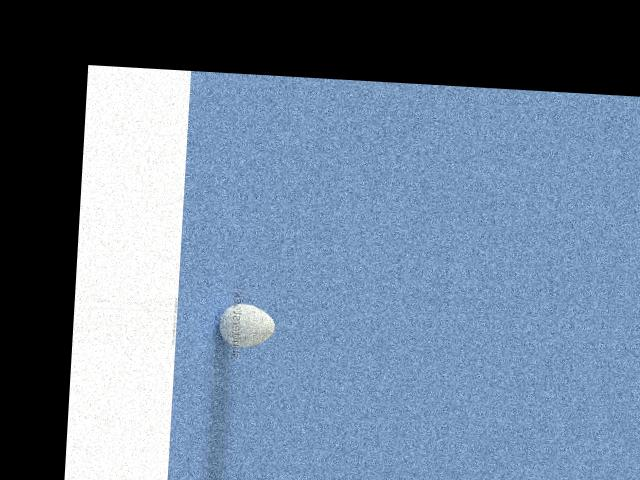egg: (217, 302, 276, 348)
